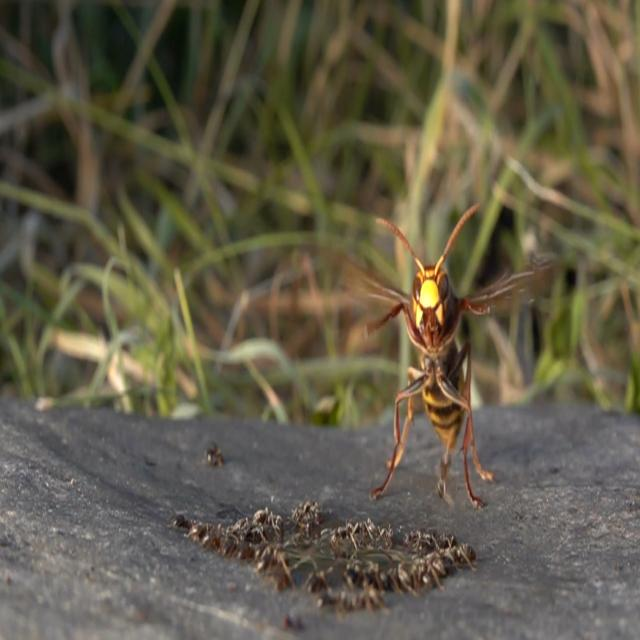Hornets: (352, 197, 566, 517)
